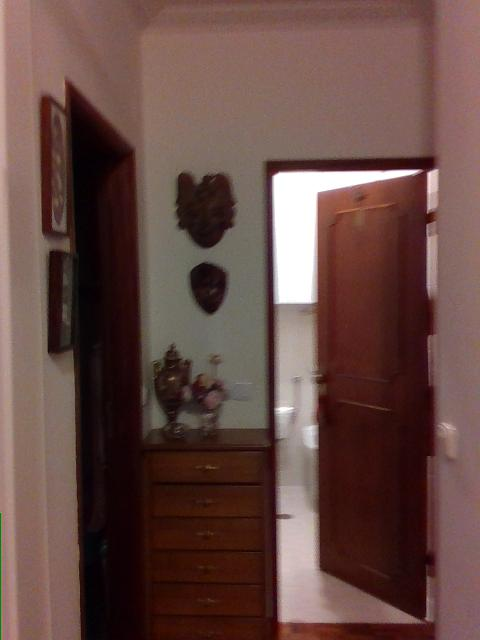semi_door: (263, 156, 436, 624)
